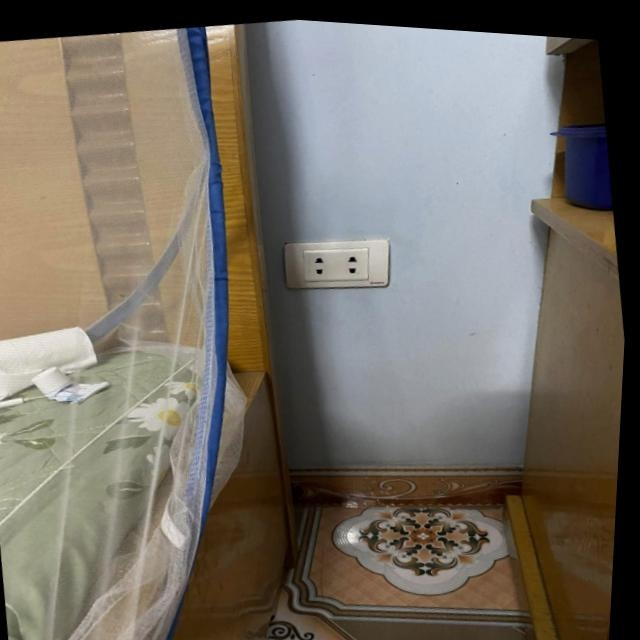outlet: (279, 228, 396, 302)
